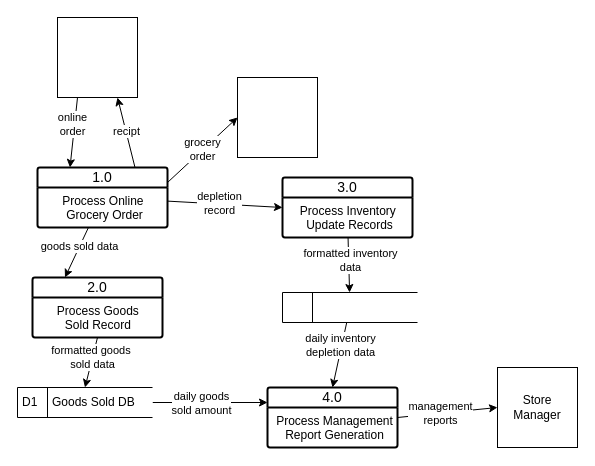
Image size: 595x466. Some labels were removed from this diagram. Here are the shapes that lost their labels. From the top down, the box of each, then its label:
(56, 16, 138, 98): Customer
(236, 76, 318, 158): Store Employee
(282, 292, 418, 322): D2 Inventory DB
